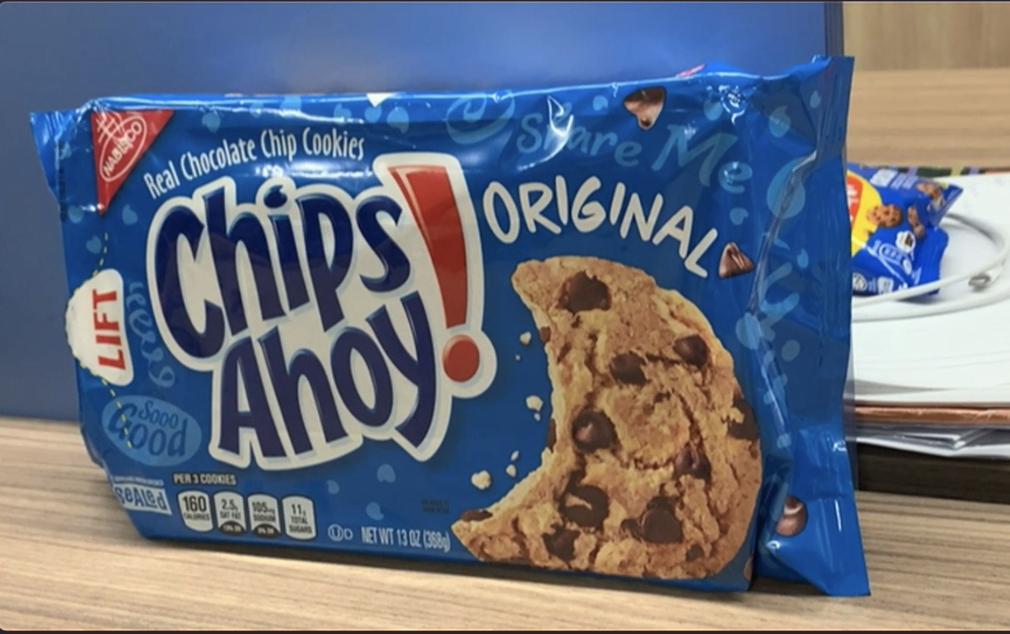cookies_300g-399g: (101, 145, 791, 544)
